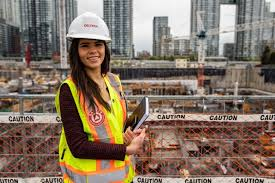hard hat: (66, 12, 112, 41)
high-vis: (55, 71, 134, 183)
